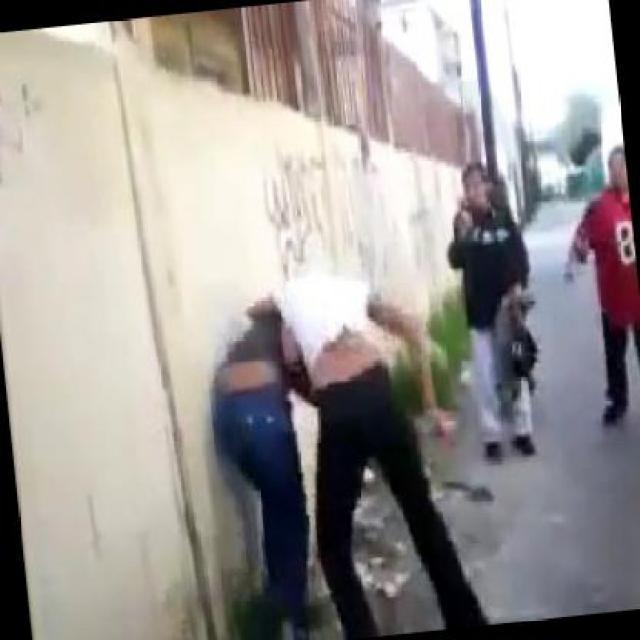fight: (192, 254, 458, 576)
non-fight: (430, 157, 541, 426), (564, 140, 638, 428)
